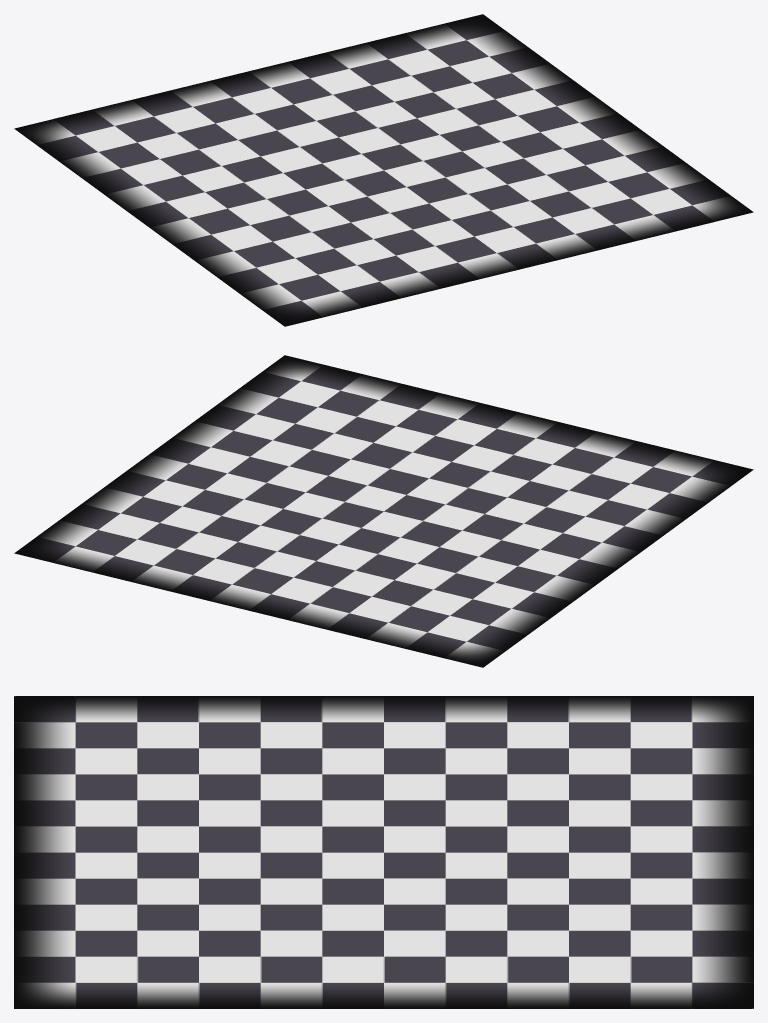
The model's file is mypage_pos.FBX.
3 renders of one model, top to bottom at view 1: azimuth 30°, elevation 25°; view 2: azimuth 150°, elevation 25°; view 3: azimuth 270°, elevation 25°, orthographic. The views are drawn at different scales.
Visible parts, largest first — view 1: Box008; view 2: Box008; view 3: Box008.
Boxes of the visible parts, x1,y1,x2,y2 form: Box008: (14, 14, 753, 326); Box008: (14, 355, 753, 667); Box008: (14, 696, 753, 1008).
Size of the model in its own units: 472 by 2.89e-14 by 472.
